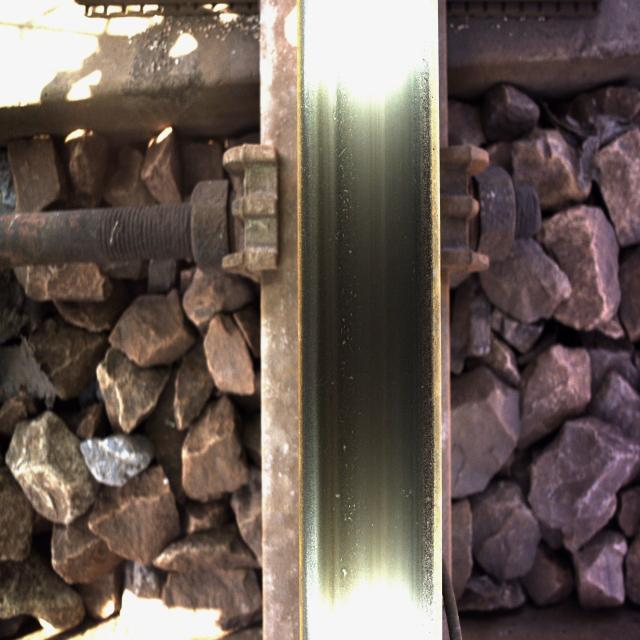break: (316, 51, 419, 600)
